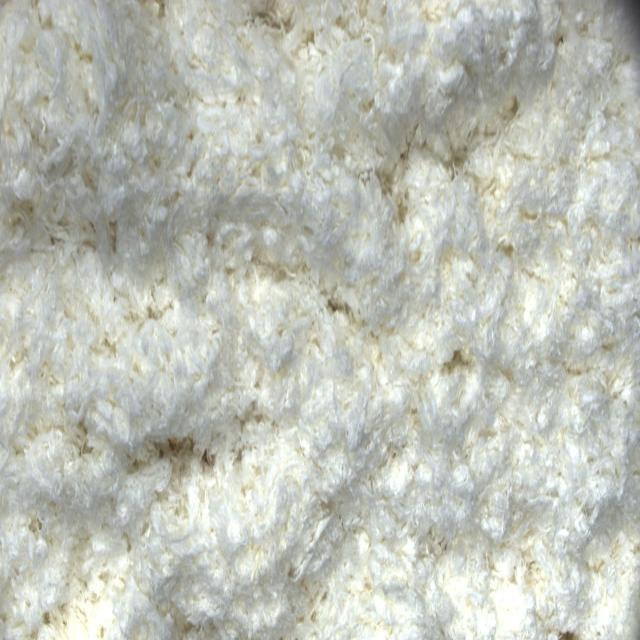dust: (157, 430, 193, 472)
